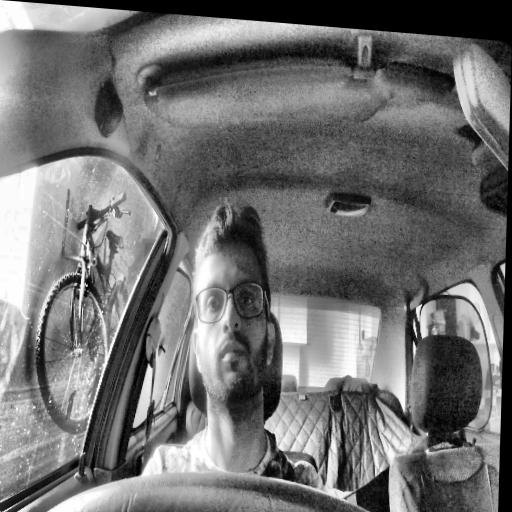awake: (189, 193, 279, 415)
